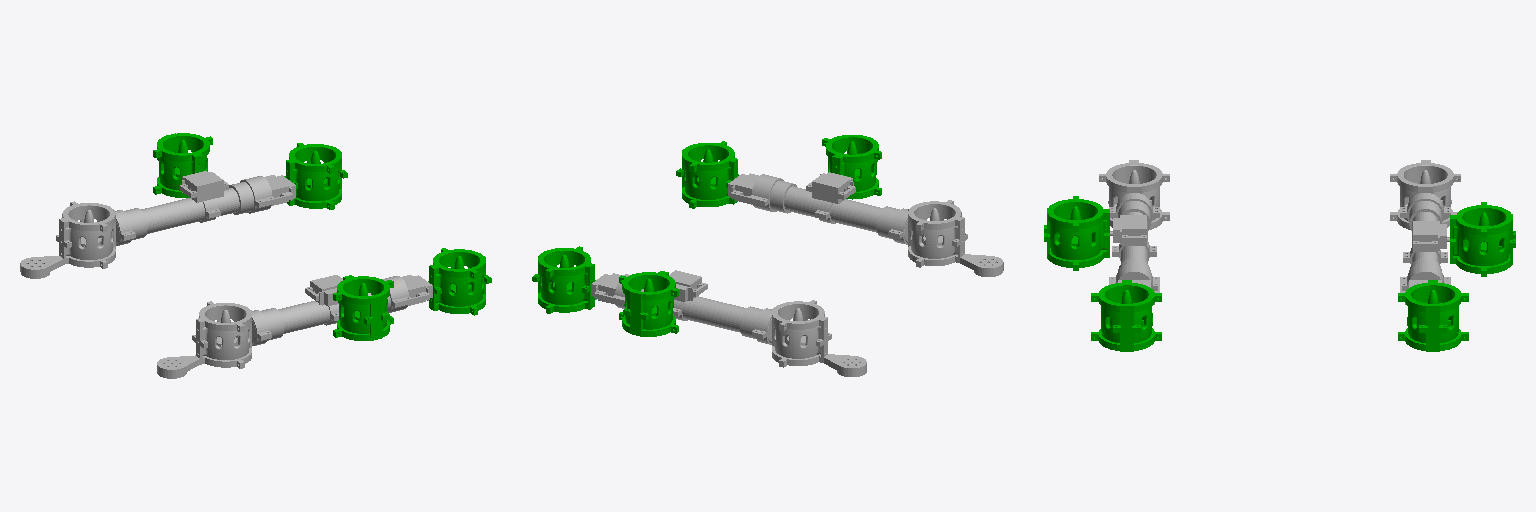
The robot description file, URDF, robot "uuv_d_3_link":
<?xml version='1.0' encoding='UTF-8'?>
<robot name="uuv_d_3_link">
  <link name="base_link">
    <inertial>
      <origin xyz="0.00022805 -0.00090746 -0.031355" rpy="0.0 -0.0 0.0"/>
      <mass value="2.4274"/>
      <inertia ixx="0.0082723" ixy="-1.8765e-06" ixz="8.7781e-06" iyy="0.0039457" iyz="2.9774e-06" izz="0.0088008"/>
    </inertial>
    <visual>
      <geometry>
        <mesh filename="package://uuv_d_3_link/meshes/base_link_base_link.dae"/>
      </geometry>
      <material name="__unnamed_material_1"/>
      <origin xyz="0.0 0.0 0.0" rpy="0.0 -0.0 0.0"/>
    </visual>
    <collision>
      <geometry>
        <mesh filename="package://uuv_d_3_link/meshes/base_link_base_link_collision.stl"/>
      </geometry>
      <origin xyz="0.0 0.0 0.0" rpy="0.0 -0.0 0.0"/>
    </collision>
  </link>
  <link name="link1">
    <inertial>
      <origin xyz="0.22434 -0.00052393 0.041408" rpy="0.0 -0.0 0.0"/>
      <mass value="0.5461"/>
      <inertia ixx="0.00025399" ixy="7.6018e-08" ixz="-2.3535e-05" iyy="0.00098826" iyz="-1.4592e-07" izz="0.0010215"/>
    </inertial>
    <visual>
      <geometry>
        <mesh filename="package://uuv_d_3_link/meshes/link1_link1.dae"/>
      </geometry>
      <material name="__unnamed_material_2"/>
      <origin xyz="0.0 0.0 0.0" rpy="0.0 -0.0 0.0"/>
    </visual>
    <collision>
      <geometry>
        <mesh filename="package://uuv_d_3_link/meshes/link1_link1_collision.stl"/>
      </geometry>
      <origin xyz="0.0 0.0 0.0" rpy="0.0 -0.0 0.0"/>
    </collision>
  </link>
  <link name="gimbal_link1">
    <inertial>
      <origin xyz="0.042287 3.8706e-06 -0.0039984" rpy="0.0 -0.0 0.0"/>
      <mass value="0.14106"/>
      <inertia ixx="0.00012955" ixy="1.7449e-08" ixz="1.2424e-06" iyy="0.00011905" iyz="-4.8454e-09" izz="0.00011723"/>
    </inertial>
    <visual>
      <geometry>
        <mesh filename="package://uuv_d_3_link/meshes/gimbal_link1_gimbal_link1.dae"/>
      </geometry>
      <material name="__unnamed_material_3"/>
      <origin xyz="0.0 0.0 0.0" rpy="0.0 -0.0 0.0"/>
    </visual>
    <collision>
      <geometry>
        <mesh filename="package://uuv_d_3_link/meshes/gimbal_link1_gimbal_link1_collision.stl"/>
      </geometry>
      <origin xyz="0.0 0.0 0.0" rpy="0.0 -0.0 0.0"/>
    </collision>
  </link>
  <link name="thrust1"/>
  <link name="gimbal_link2">
    <inertial>
      <origin xyz="-0.0045106 -0.046287 -0.0021866" rpy="0.0 -0.0 0.0"/>
      <mass value="0.14106"/>
      <inertia ixx="0.00011905" ixy="-1.7449e-08" ixz="-4.8457e-09" iyy="0.00012955" iyz="-1.2424e-06" izz="0.00011723"/>
    </inertial>
    <visual>
      <geometry>
        <mesh filename="package://uuv_d_3_link/meshes/gimbal_link2_gimbal_link2.dae"/>
      </geometry>
      <material name="__unnamed_material_4"/>
      <origin xyz="0.0 0.0 0.0" rpy="0.0 -0.0 0.0"/>
    </visual>
    <collision>
      <geometry>
        <mesh filename="package://uuv_d_3_link/meshes/gimbal_link2_gimbal_link2_collision.stl"/>
      </geometry>
      <origin xyz="0.0 0.0 0.0" rpy="0.0 -0.0 0.0"/>
    </collision>
  </link>
  <link name="thrust2"/>
  <link name="thrust3"/>
  <link name="link2">
    <inertial>
      <origin xyz="0.22696 0.00052593 0.040944" rpy="0.0 -0.0 0.0"/>
      <mass value="0.5461"/>
      <inertia ixx="0.00025389" ixy="-4.0845e-08" ixz="-2.1948e-05" iyy="0.00098826" iyz="1.3639e-07" izz="0.0010216"/>
    </inertial>
    <visual>
      <geometry>
        <mesh filename="package://uuv_d_3_link/meshes/link2_link2.dae"/>
      </geometry>
      <material name="__unnamed_material_5"/>
      <origin xyz="0.0 0.0 0.0" rpy="0.0 -0.0 0.0"/>
    </visual>
    <collision>
      <geometry>
        <mesh filename="package://uuv_d_3_link/meshes/link2_link2_collision.stl"/>
      </geometry>
      <origin xyz="0.0 0.0 0.0" rpy="0.0 -0.0 0.0"/>
    </collision>
  </link>
  <link name="gimbal_link3">
    <inertial>
      <origin xyz="0.0045106 0.046287 -0.0021866" rpy="0.0 -0.0 0.0"/>
      <mass value="0.14106"/>
      <inertia ixx="0.00011905" ixy="-1.7449e-08" ixz="4.8452e-09" iyy="0.00012955" iyz="1.2424e-06" izz="0.00011723"/>
    </inertial>
    <visual>
      <geometry>
        <mesh filename="package://uuv_d_3_link/meshes/gimbal_link3_gimbal_link3.dae"/>
      </geometry>
      <material name="__unnamed_material_6"/>
      <origin xyz="0.0 0.0 0.0" rpy="0.0 -0.0 0.0"/>
    </visual>
    <collision>
      <geometry>
        <mesh filename="package://uuv_d_3_link/meshes/gimbal_link3_gimbal_link3_collision.stl"/>
      </geometry>
      <origin xyz="0.0 0.0 0.0" rpy="0.0 -0.0 0.0"/>
    </collision>
  </link>
  <link name="thrust5"/>
  <link name="gimbal_link4">
    <inertial>
      <origin xyz="0.046287 -0.0045106 -0.0021866" rpy="0.0 -0.0 0.0"/>
      <mass value="0.14106"/>
      <inertia ixx="0.00012955" ixy="1.7449e-08" ixz="1.2424e-06" iyy="0.00011905" iyz="-4.8454e-09" izz="0.00011723"/>
    </inertial>
    <visual>
      <geometry>
        <mesh filename="package://uuv_d_3_link/meshes/gimbal_link4_gimbal_link4.dae"/>
      </geometry>
      <material name="__unnamed_material_7"/>
      <origin xyz="0.0 0.0 0.0" rpy="0.0 -0.0 0.0"/>
    </visual>
    <collision>
      <geometry>
        <mesh filename="package://uuv_d_3_link/meshes/gimbal_link4_gimbal_link4_collision.stl"/>
      </geometry>
      <origin xyz="0.0 0.0 0.0" rpy="0.0 -0.0 0.0"/>
    </collision>
  </link>
  <link name="thrust6"/>
  <link name="thrust4"/>
  <link name="fc"/>
  <joint name="right" type="revolute">
    <limit effort="0.0" velocity="0.0" lower="-3.14" upper="0.0"/>
    <parent link="base_link"/>
    <child link="link1"/>
    <axis xyz="-0.002068    0.          0.99999786"/>
    <origin xyz="0.0 -0.205 -0.06815" rpy="0.0 0.002068 0.0"/>
  </joint>
  <joint name="gimbal1" type="revolute">
    <limit effort="0.0" velocity="0.0" lower="-1.57" upper="1.57"/>
    <parent link="link1"/>
    <child link="gimbal_link1"/>
    <axis xyz="1. 0. 0."/>
    <origin xyz="0.44772 -0.0109 0.041076" rpy="-0.0 -0.002068 0.0"/>
  </joint>
  <joint name="rotor1" type="continuous">
    <limit effort="0.0" velocity="0.0" lower="-20.0" upper="20.0"/>
    <parent link="gimbal_link1"/>
    <child link="thrust1"/>
    <axis xyz="0. 0. 1."/>
    <origin xyz="0.044 0.0 0.01915" rpy="0.0 -0.0 0.0"/>
  </joint>
  <joint name="gimbal2" type="revolute">
    <limit effort="0.0" velocity="0.0" lower="-1.57" upper="1.57"/>
    <parent link="link1"/>
    <child link="gimbal_link2"/>
    <axis xyz=" 0. -1.  0."/>
    <origin xyz="0.28827 -0.0347 0.071635" rpy="-0.0 -0.002068 0.0"/>
  </joint>
  <joint name="rotor2" type="continuous">
    <limit effort="0.0" velocity="0.0" lower="-20.0" upper="20.0"/>
    <parent link="gimbal_link2"/>
    <child link="thrust2"/>
    <axis xyz=" 0.  0. -1."/>
    <origin xyz="-0.0045145 -0.048 0.020962" rpy="0.0 -0.0 0.0"/>
  </joint>
  <joint name="rotor3" type="continuous">
    <limit effort="0.0" velocity="0.0" lower="-20.0" upper="20.0"/>
    <parent link="link1"/>
    <child link="thrust3"/>
    <axis xyz="0. 0. 1."/>
    <origin xyz="0.092877 0.0 0.059492" rpy="-0.0 -0.002068 0.0"/>
  </joint>
  <joint name="left" type="revolute">
    <limit effort="0.0" velocity="0.0" lower="0.0" upper="3.14"/>
    <parent link="base_link"/>
    <child link="link2"/>
    <axis xyz="0. 0. 1."/>
    <origin xyz="0.0 0.205 -0.06815" rpy="0.0 -0.0 0.0"/>
  </joint>
  <joint name="gimbal3" type="revolute">
    <limit effort="0.0" velocity="0.0" lower="-1.57" upper="1.57"/>
    <parent link="link2"/>
    <child link="gimbal_link3"/>
    <axis xyz="0. 1. 0."/>
    <origin xyz="0.29939 0.0347 0.071038" rpy="0.0 -0.0 0.0"/>
  </joint>
  <joint name="rotor5" type="continuous">
    <limit effort="0.0" velocity="0.0" lower="-20.0" upper="20.0"/>
    <parent link="gimbal_link3"/>
    <child link="thrust5"/>
    <axis xyz="0. 0. 1."/>
    <origin xyz="0.0045145 0.048 0.020962" rpy="0.0 -0.0 0.0"/>
  </joint>
  <joint name="gimbal4" type="revolute">
    <limit effort="0.0" velocity="0.0" lower="-1.57" upper="1.57"/>
    <parent link="link2"/>
    <child link="gimbal_link4"/>
    <axis xyz="1. 0. 0."/>
    <origin xyz="0.4438 0.015414 0.038338" rpy="0.0 -0.0 0.0"/>
  </joint>
  <joint name="rotor6" type="continuous">
    <limit effort="0.0" velocity="0.0" lower="-20.0" upper="20.0"/>
    <parent link="gimbal_link4"/>
    <child link="thrust6"/>
    <axis xyz=" 0.  0. -1."/>
    <origin xyz="0.048 -0.0045145 0.020962" rpy="0.0 -0.0 0.0"/>
  </joint>
  <joint name="rotor4" type="continuous">
    <limit effort="0.0" velocity="0.0" lower="-20.0" upper="20.0"/>
    <parent link="link2"/>
    <child link="thrust4"/>
    <axis xyz=" 0.  0. -1."/>
    <origin xyz="0.093 0.0 0.0593" rpy="0.0 -0.0 0.0"/>
  </joint>
  <joint name="fc" type="fixed">
    <limit effort="0.0" velocity="0.0"/>
    <parent link="base_link"/>
    <child link="fc"/>
    <axis xyz="0. 0. 0."/>
    <origin xyz="0.0076981 0.066886 0.0075171" rpy="0.0 0.0037612 0.0"/>
  </joint>
  <material name="__unnamed_material_1">
    <color rgba="0.75294 0.75294 0.75294 1.     "/>
  </material>
  <material name="__unnamed_material_2">
    <color rgba="0.75294 0.75294 0.75294 1.     "/>
  </material>
  <material name="__unnamed_material_3">
    <color rgba="0.      0.75294 0.      1.     "/>
  </material>
  <material name="__unnamed_material_4">
    <color rgba="0.      0.75294 0.      1.     "/>
  </material>
  <material name="__unnamed_material_5">
    <color rgba="0.75294 0.75294 0.75294 1.     "/>
  </material>
  <material name="__unnamed_material_6">
    <color rgba="0.      0.75294 0.      1.     "/>
  </material>
  <material name="__unnamed_material_7">
    <color rgba="0.      0.75294 0.      1.     "/>
  </material>
</robot>

--- Facts derived from the render (not from the file) ---
Views: 3 orthographic renders of the robot side by side, from view 1: azimuth 30°, elevation 25°; view 2: azimuth 150°, elevation 25°; view 3: azimuth 270°, elevation 25°.
Model uuv_d_3_link with 14 links and 13 joints (6 revolute, 6 continuous, 1 fixed), rooted at base_link, posed every joint at zero.
Links seen in each view (by area): view 1: link2, link1, gimbal_link1, gimbal_link2, gimbal_link4, gimbal_link3; view 2: link1, link2, gimbal_link4, gimbal_link3, gimbal_link1, gimbal_link2; view 3: link2, link1, gimbal_link2, gimbal_link3, gimbal_link1, gimbal_link4.
Link boxes in pixels (x1,y1,x2,y2): link2: (20, 171, 295, 278); link1: (157, 275, 432, 378); gimbal_link1: (428, 248, 491, 315); gimbal_link2: (333, 275, 393, 340); gimbal_link4: (284, 143, 347, 209); gimbal_link3: (153, 133, 212, 197); link1: (728, 172, 1003, 276); link2: (591, 270, 866, 376); gimbal_link4: (532, 246, 595, 313); gimbal_link3: (619, 271, 678, 336); gimbal_link1: (676, 141, 738, 208); gimbal_link2: (822, 135, 881, 199); link2: (1390, 160, 1460, 304); link1: (1099, 160, 1169, 304); gimbal_link2: (1044, 196, 1109, 270); gimbal_link3: (1450, 202, 1515, 276); gimbal_link1: (1091, 280, 1161, 351); gimbal_link4: (1398, 280, 1468, 351).
Bounding box of the posed robot: 0.5583 × 0.6634 × 0.115 m (x, y, z).
6 mesh visuals loaded from 7 distinct referenced files (6 Collada DAE); not drawn: 1 (reference not matched to a file when rendering).
